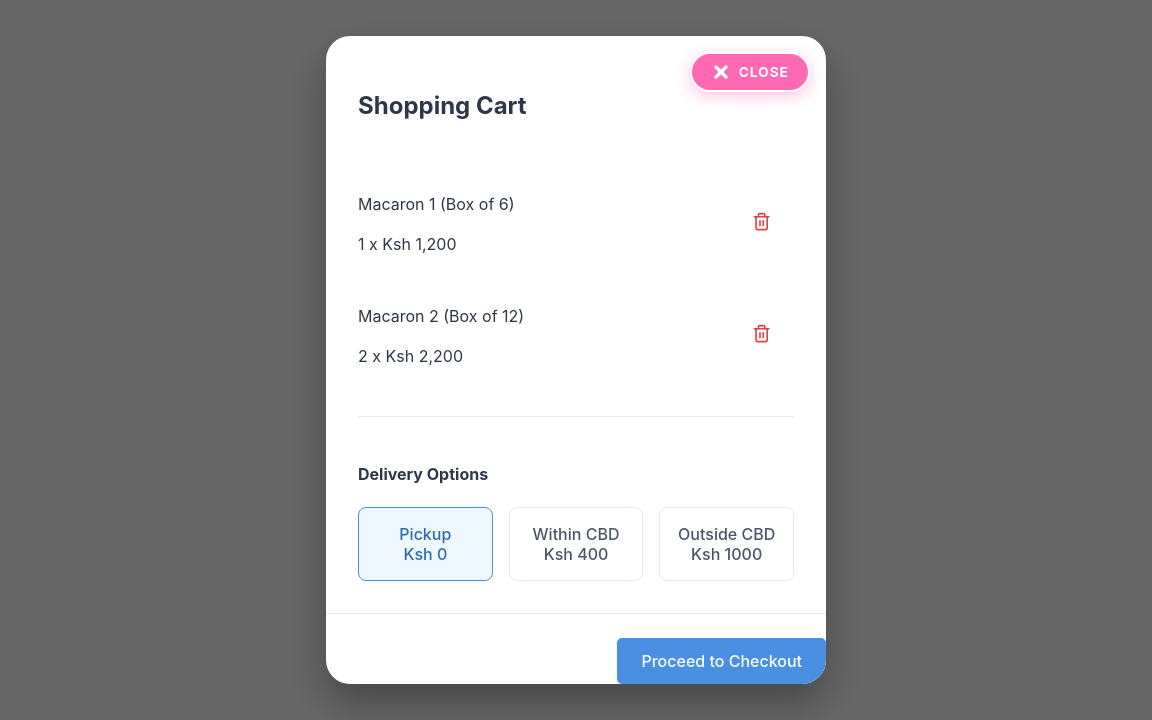
Test case: CartModal component › calculates delivery fee correctly
Click the button "Within CBD Ksh 400" at (576, 544), box [509, 507, 643, 581]
(page scrolled)
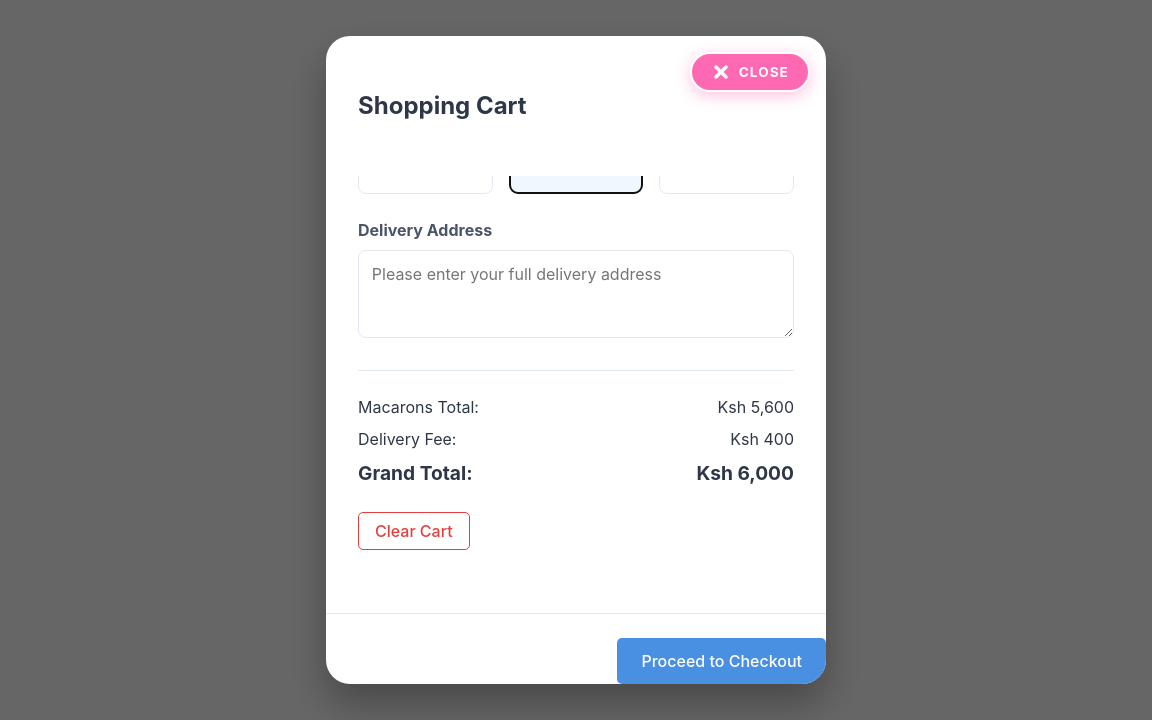
Check: the text "Delivery Fee:" is shown, box [358, 427, 456, 451]
Check: the text "Grand Total:" is shown, box [358, 459, 473, 488]
Check: the text "Ksh 6,000" is shown, box [696, 459, 794, 488]
